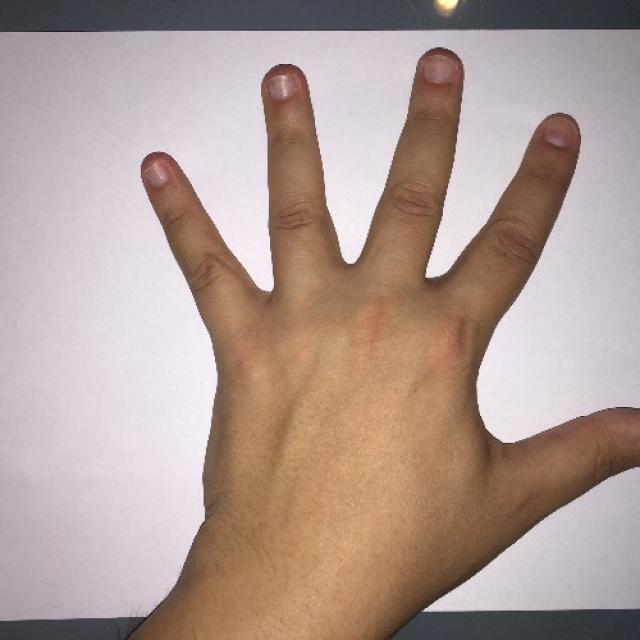paper: (139, 45, 640, 521)
